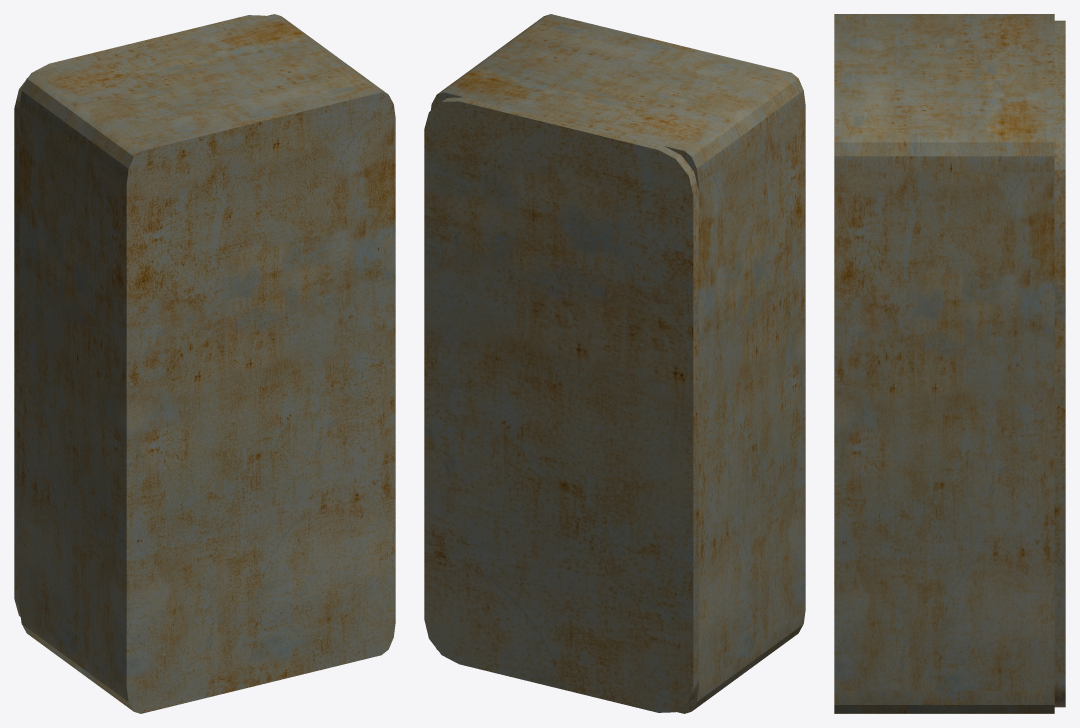
File: fridge.fbx
The picture shows the model from 3 angles, left to right: view 1: azimuth 30°, elevation 25°; view 2: azimuth 150°, elevation 25°; view 3: azimuth 270°, elevation 25°; orthographic projection. The views are drawn at different scales.
Visible parts, largest first — view 1: Cube, Cube.001; view 2: Cube.001, Cube; view 3: Cube, Cube.001.
Part boxes in pixels (x1,y1,x2,y2): Cube: (19, 14, 395, 713); Cube.001: (14, 15, 265, 616); Cube.001: (424, 97, 698, 712); Cube: (430, 14, 805, 713); Cube: (834, 14, 1054, 713); Cube.001: (1054, 20, 1065, 707).
Size of the model in its own units: 100 by 200 by 72.44.
